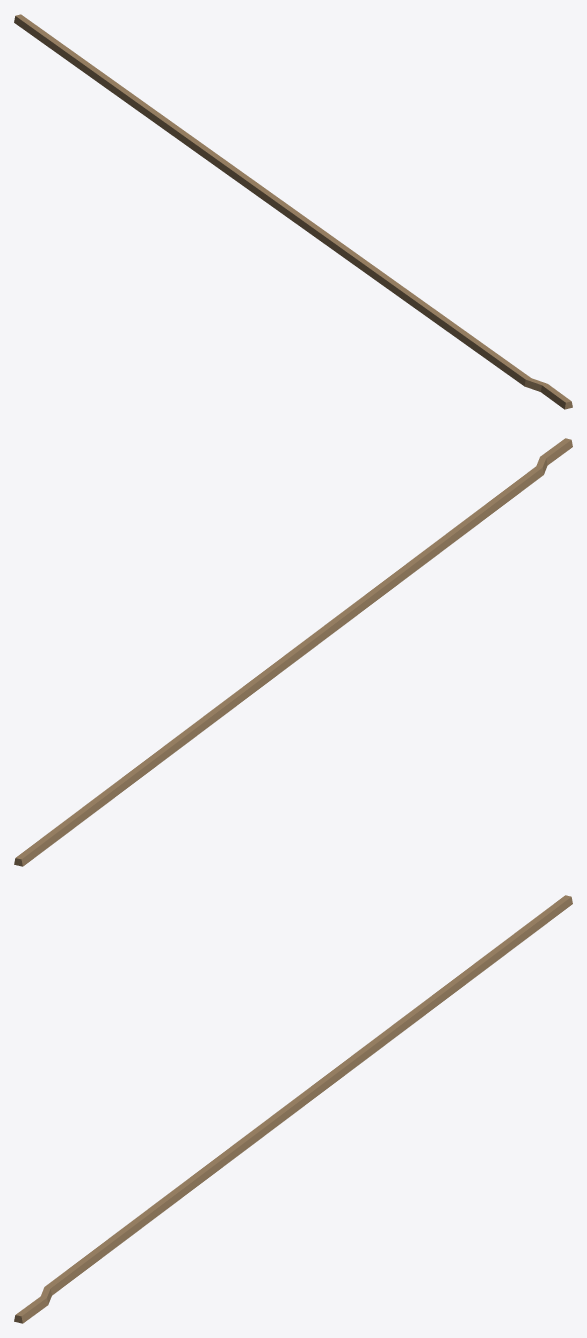
The model's file is wall-09.glb.
3 views of the same model, one above another, from view 1: azimuth 30°, elevation 25°; view 2: azimuth 150°, elevation 25°; view 3: azimuth 330°, elevation 25° (orthographic). The views are drawn at different scales.
Visible parts, largest first — view 1: C_transition_direct_09; view 2: C_transition_direct_09; view 3: C_transition_direct_09.
Boxes of the visible parts, box(x1,y1,x2,y2) form: C_transition_direct_09: box(14, 14, 572, 409); C_transition_direct_09: box(14, 438, 572, 866); C_transition_direct_09: box(14, 895, 572, 1323).
Bounding box in the file's own units: 23.83 × 6.03 × 888.
